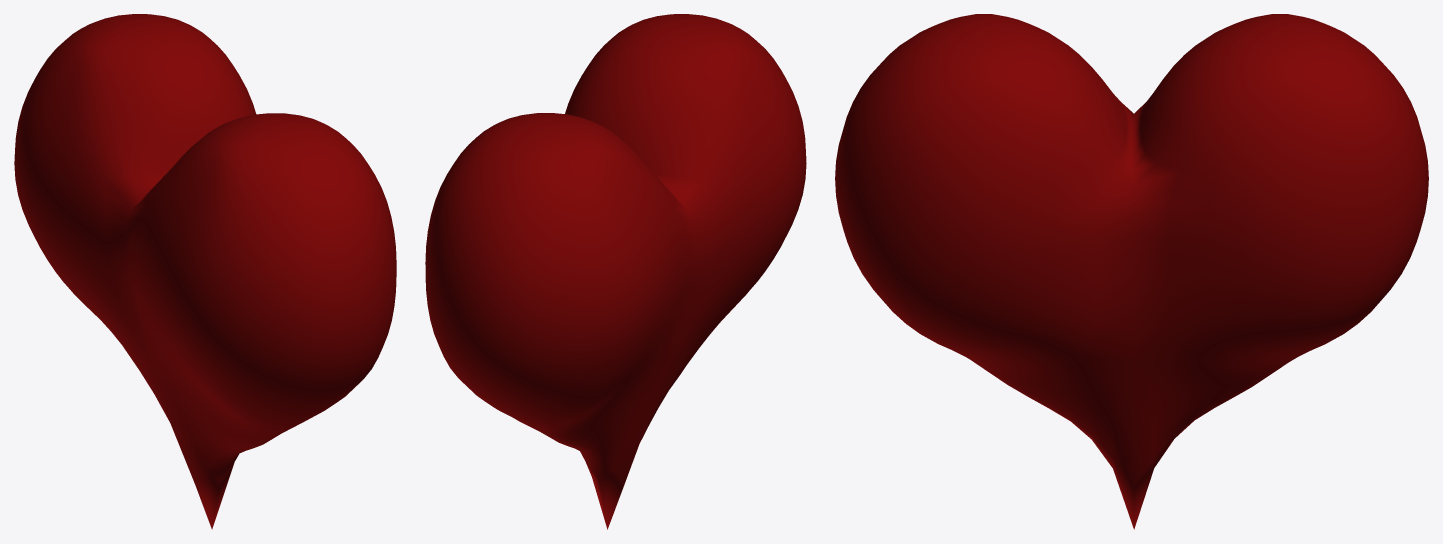
The model's file is Heart_Emoji.glb.
3 renders of one model, left to right at view 1: azimuth 30°, elevation 25°; view 2: azimuth 150°, elevation 25°; view 3: azimuth 270°, elevation 25°, orthographic. The views are drawn at different scales.
Parts seen in each view (by area): view 1: Heart_Emoji_Smooth; view 2: Heart_Emoji_Smooth; view 3: Heart_Emoji_Smooth.
Part boxes in pixels (x1=…): Heart_Emoji_Smooth: x1=14, y1=14, x2=396, y2=529; Heart_Emoji_Smooth: x1=425, y1=14, x2=806, y2=529; Heart_Emoji_Smooth: x1=835, y1=14, x2=1428, y2=529.
Bounding box in the file's own units: 0.000348 × 0.00073 × 0.000791.
